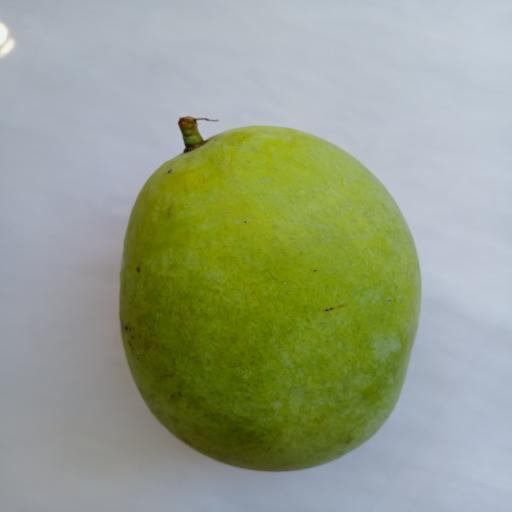mango-unripe: (109, 103, 425, 490)
